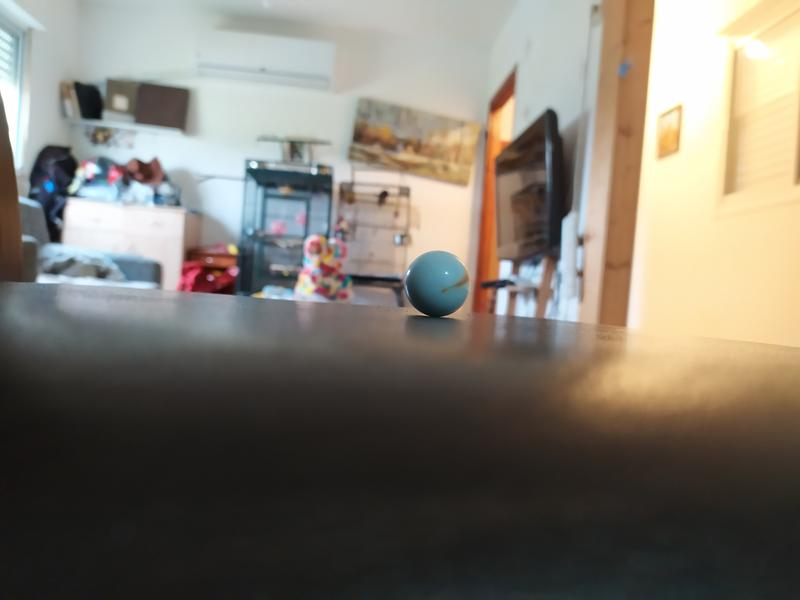Warning: (401, 248, 472, 319)
